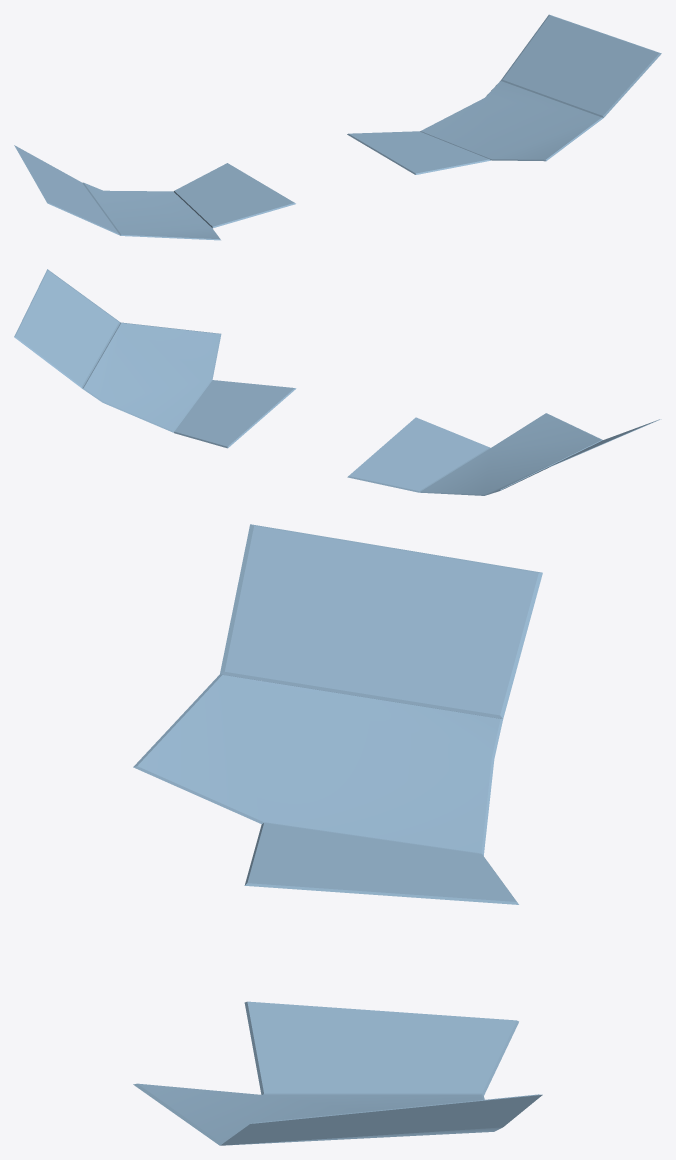
File: chassis Primary static cap.FBX
The picture shows the model from 3 angles, top to bottom: view 1: azimuth 30°, elevation 25°; view 2: azimuth 150°, elevation 25°; view 3: azimuth 270°, elevation 25°; orthographic projection. The views are drawn at different scales.
Visible parts, largest first — view 1: Object113; view 2: Object113; view 3: Object113.
Boxes of the visible parts, x1,y1,x2,y2 form: Object113: [14, 14, 661, 240]; Object113: [14, 269, 661, 495]; Object113: [133, 524, 542, 1145].
Size of the model in its own units: 0.1456 by 0.0421 by 0.0173.
